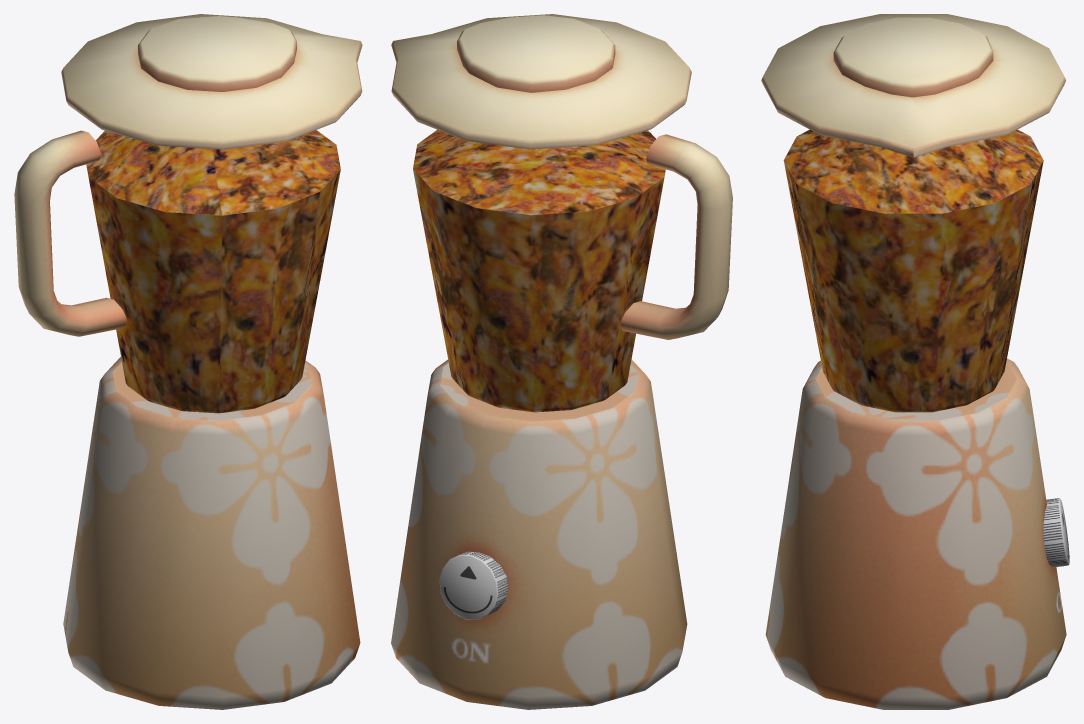
File: M_blender.fbx
3 views of the same model, side by side, from view 1: azimuth 30°, elevation 25°; view 2: azimuth 150°, elevation 25°; view 3: azimuth 270°, elevation 25° (orthographic).
Parts seen in each view (by area): view 1: blender; view 2: blender; view 3: blender.
Boxes of the visible parts, x1=… form: blender: x1=14, y1=14, x2=362, y2=709; blender: x1=391, y1=14, x2=732, y2=709; blender: x1=761, y1=14, x2=1069, y2=709.
Size of the model in its own units: 32.01 by 54.51 by 25.02.
